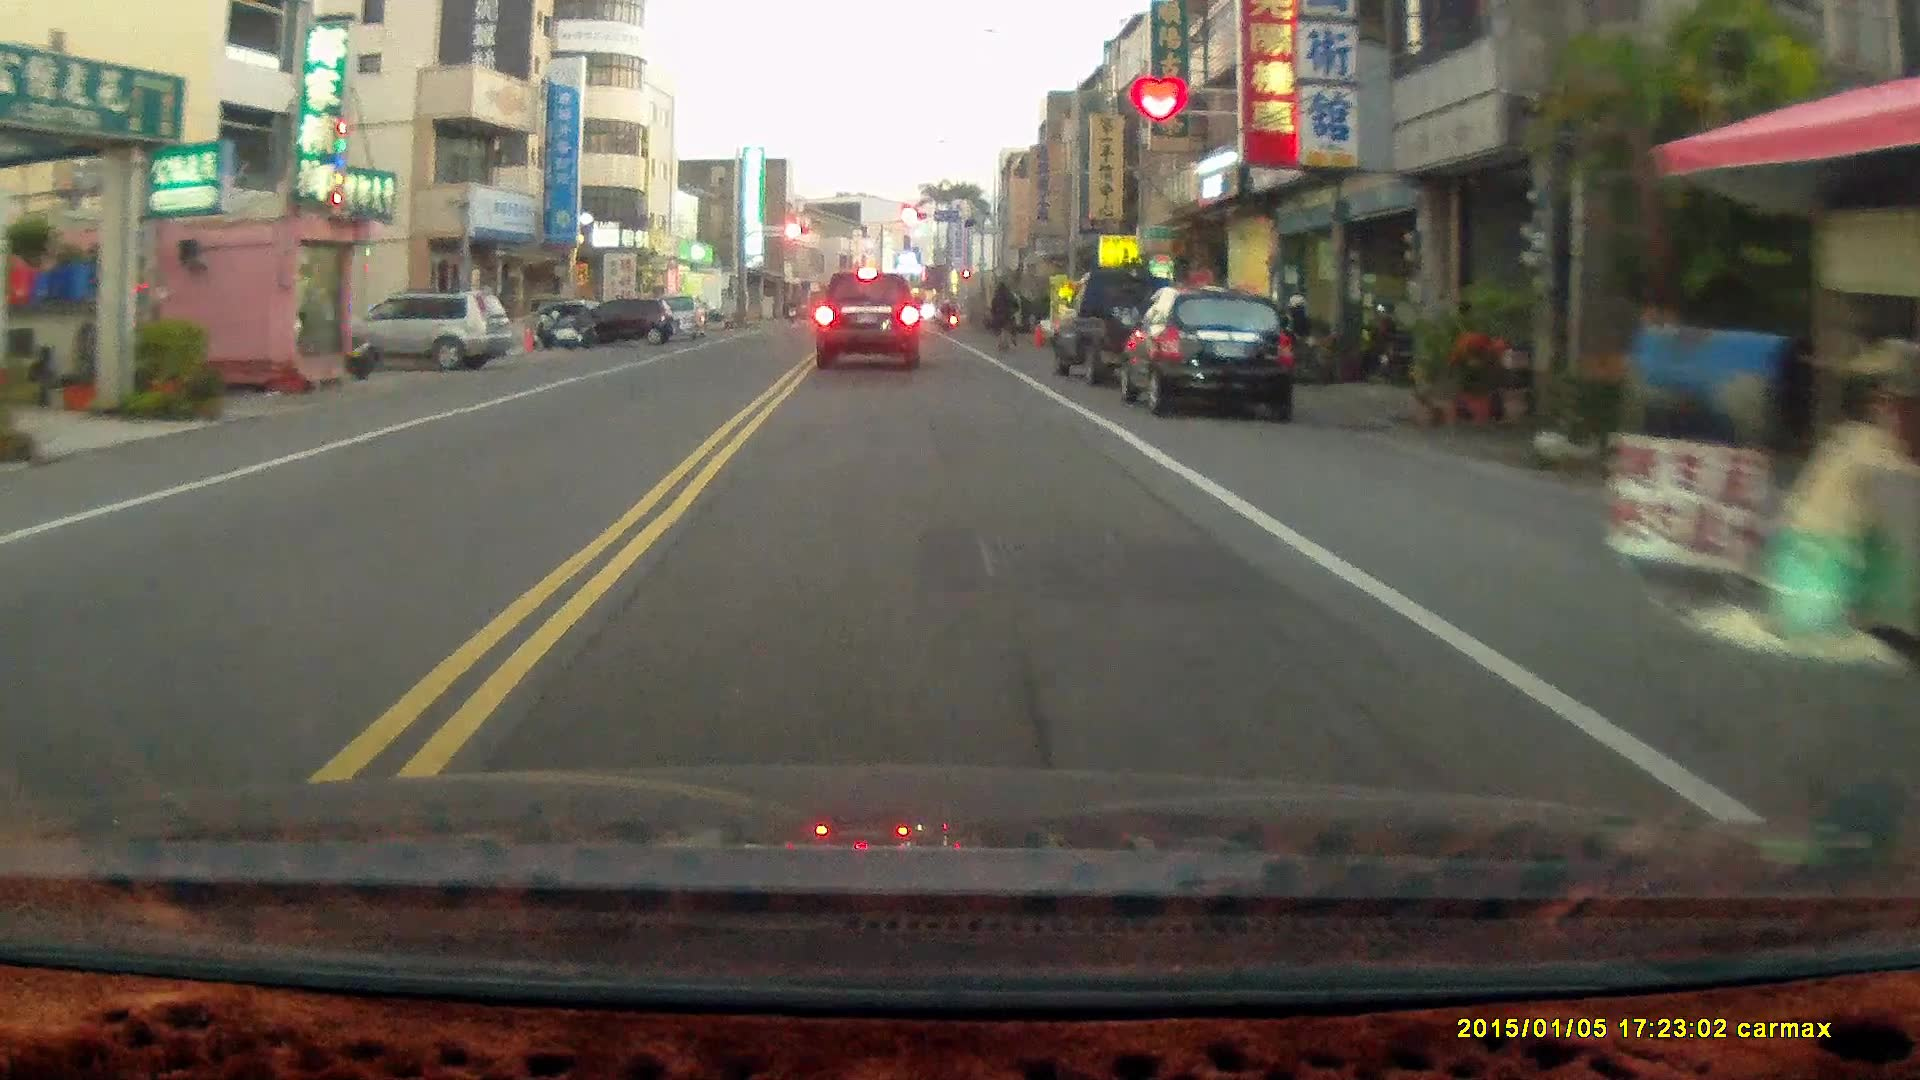rider: (988, 278, 1020, 354)
vehicle: (1132, 282, 1308, 413), (1051, 264, 1214, 385), (316, 294, 513, 377), (815, 266, 924, 371), (554, 296, 677, 345)
